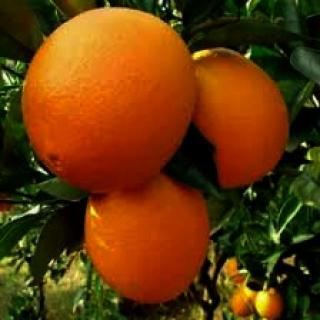orange: (20, 12, 205, 188), (56, 166, 216, 318)
